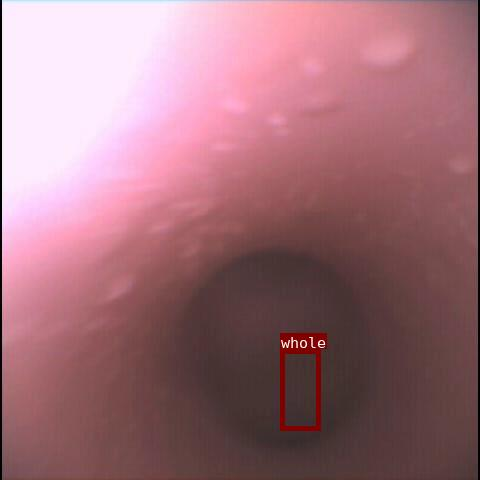whole: (280, 349, 320, 430)
